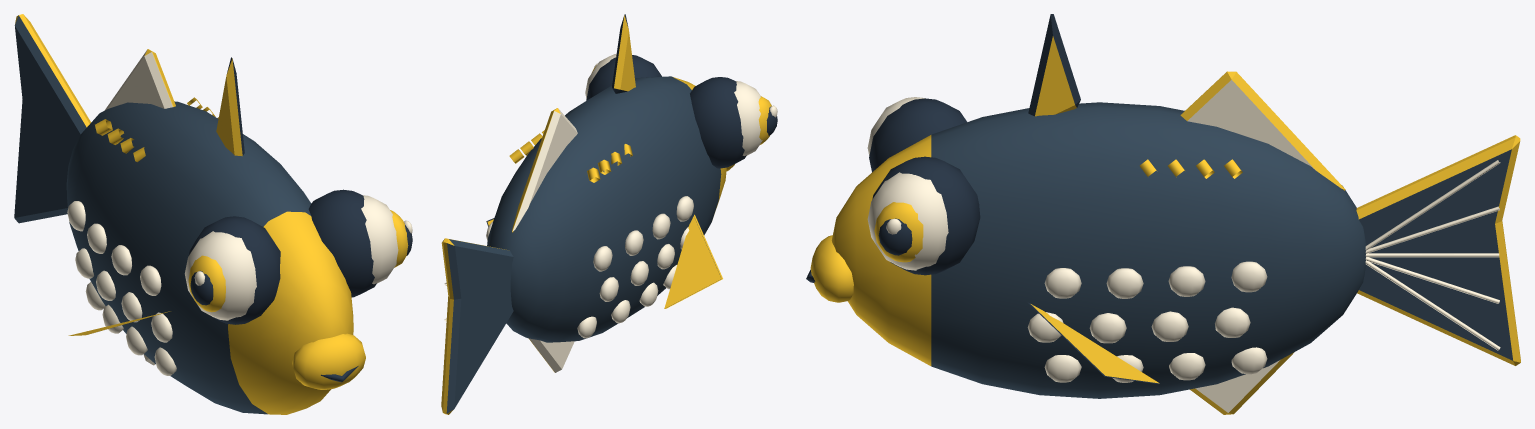
File: triggerfish-low.glb
3 views of the same model, side by side, from view 1: azimuth 30°, elevation 25°; view 2: azimuth 150°, elevation 25°; view 3: azimuth 270°, elevation 25° (orthographic). The views are drawn at different scales.
Parts seen in each view (by area): view 1: BodyMesh, TailMesh; view 2: BodyMesh, TailMesh; view 3: BodyMesh, TailMesh.
Part boxes in pixels (bbox=[...]): BodyMesh: bbox=[66, 49, 412, 414]; TailMesh: bbox=[14, 14, 90, 223]; BodyMesh: bbox=[486, 14, 777, 372]; TailMesh: bbox=[441, 238, 513, 414]; BodyMesh: bbox=[806, 14, 1365, 414]; TailMesh: bbox=[1356, 135, 1520, 365].
Bounding box in the file's own units: 1.26 × 1.57 × 2.54.
